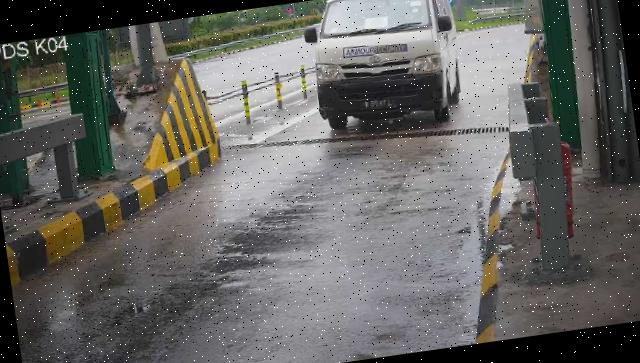License_Plate: (365, 94, 397, 112)
van: (305, 1, 469, 139)
